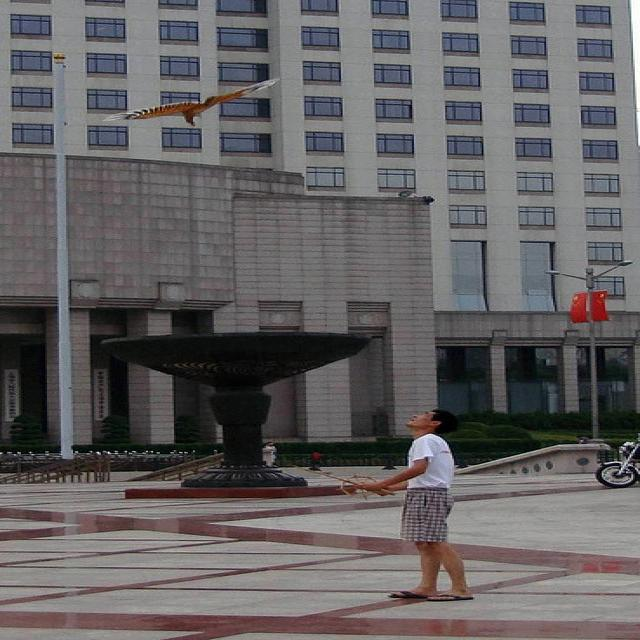motor: (596, 441, 640, 488)
